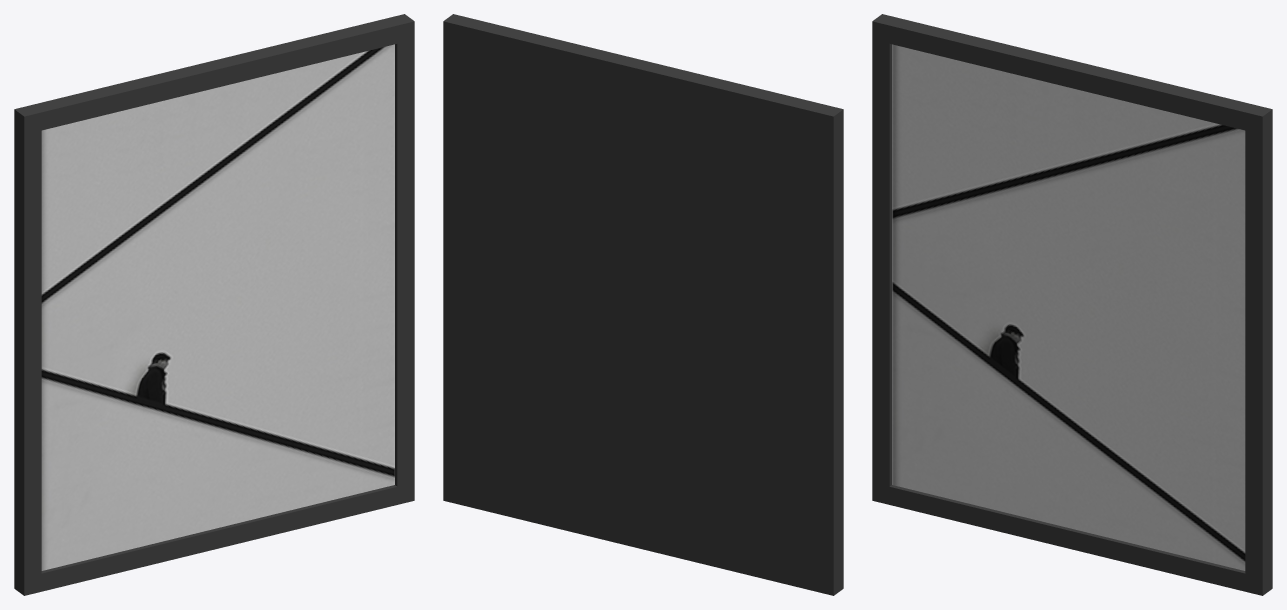
Rendered from Table.FBX.
The picture shows the model from 3 angles, left to right: view 1: azimuth 30°, elevation 25°; view 2: azimuth 150°, elevation 25°; view 3: azimuth 330°, elevation 25°; orthographic projection.
Parts seen in each view (by area): view 1: Table; view 2: Table; view 3: Table.
Part boxes in pixels (x1=…): Table: x1=14, y1=14, x2=414, y2=595; Table: x1=443, y1=14, x2=843, y2=595; Table: x1=872, y1=14, x2=1272, y2=595.
Size of the model in its own units: 35.38 by 41.51 by 1.57.
Materials: 1 (1 with a texture image).
